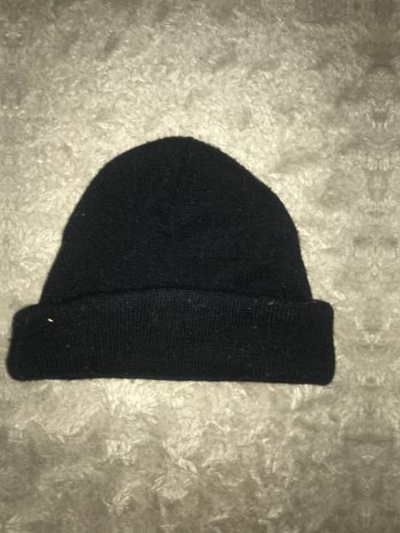Hat: (11, 93, 357, 413), (394, 106, 400, 426)
